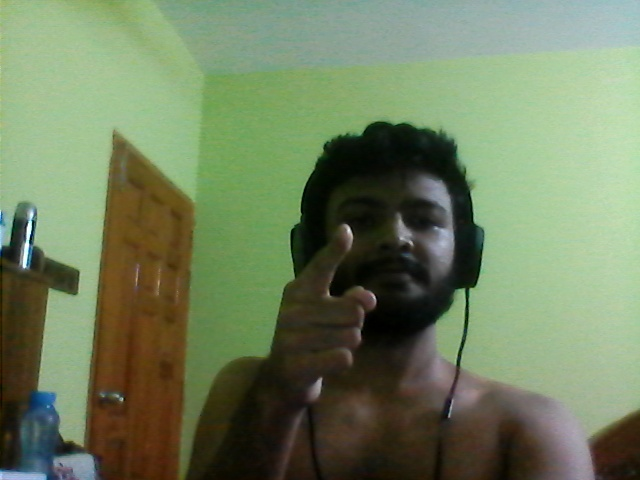You: (269, 218, 380, 403)
